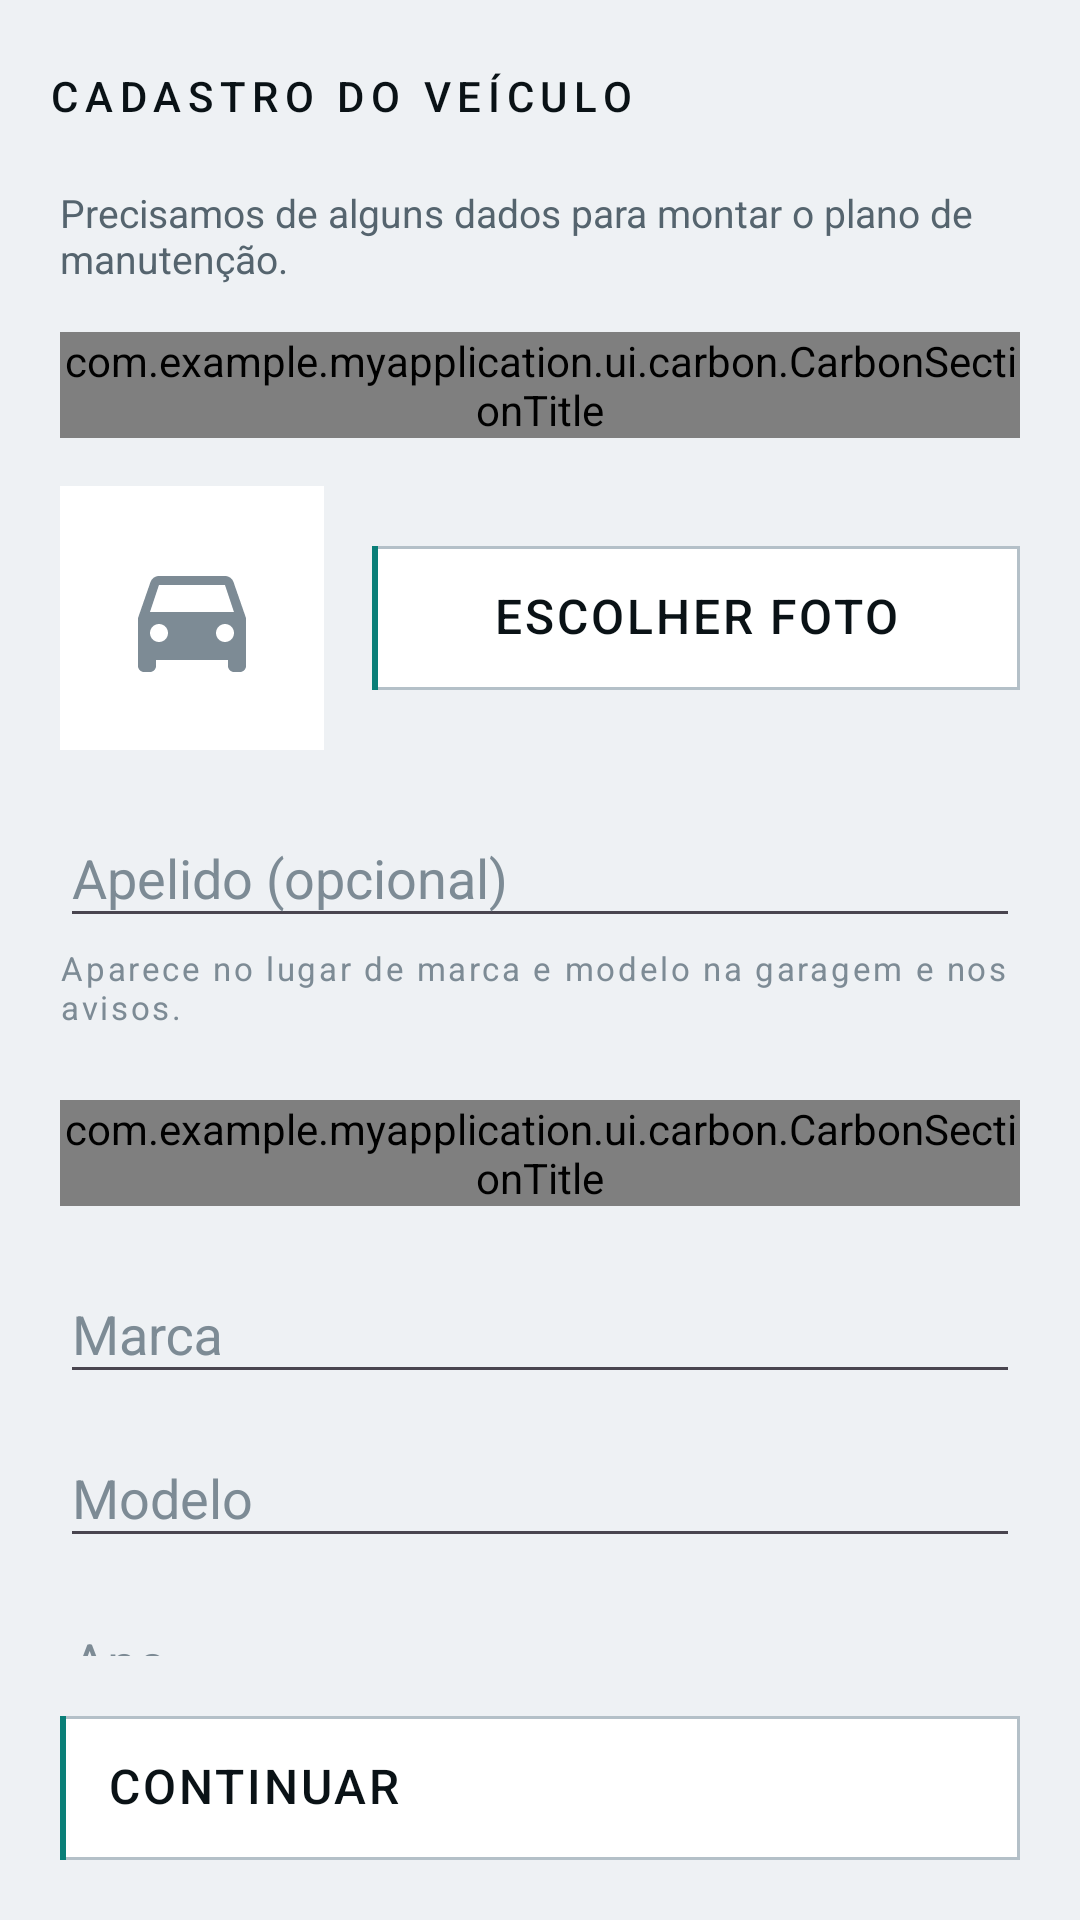

Locate icon controls on the screen. Image size 1080*1920, boxes as (x1, y1, x2, y2).
Foto do veículo: (138, 576, 246, 672)
